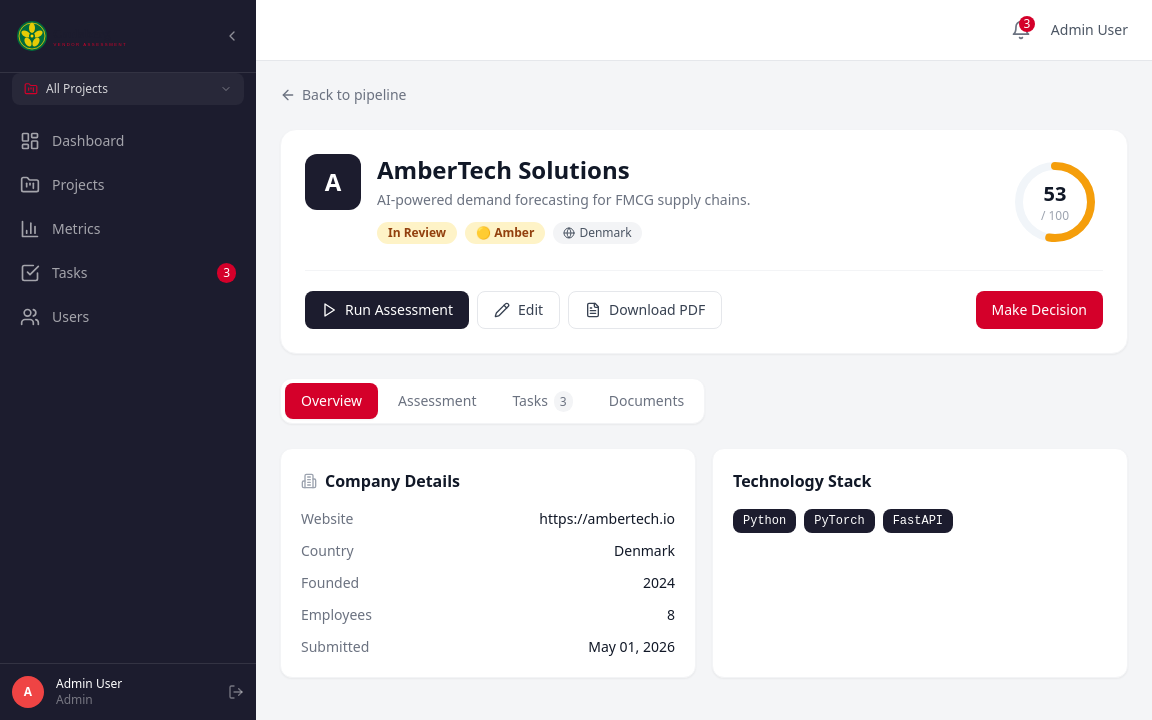
Test: VendorDetailPage › switches to Tasks tab and shows tasks
Expected: the heading "AmberTech Solutions" is shown, x1=377 y1=153 x2=630 y2=186
Click the button "Tasks3": (543, 401) x1=496 y1=383 x2=589 y2=419
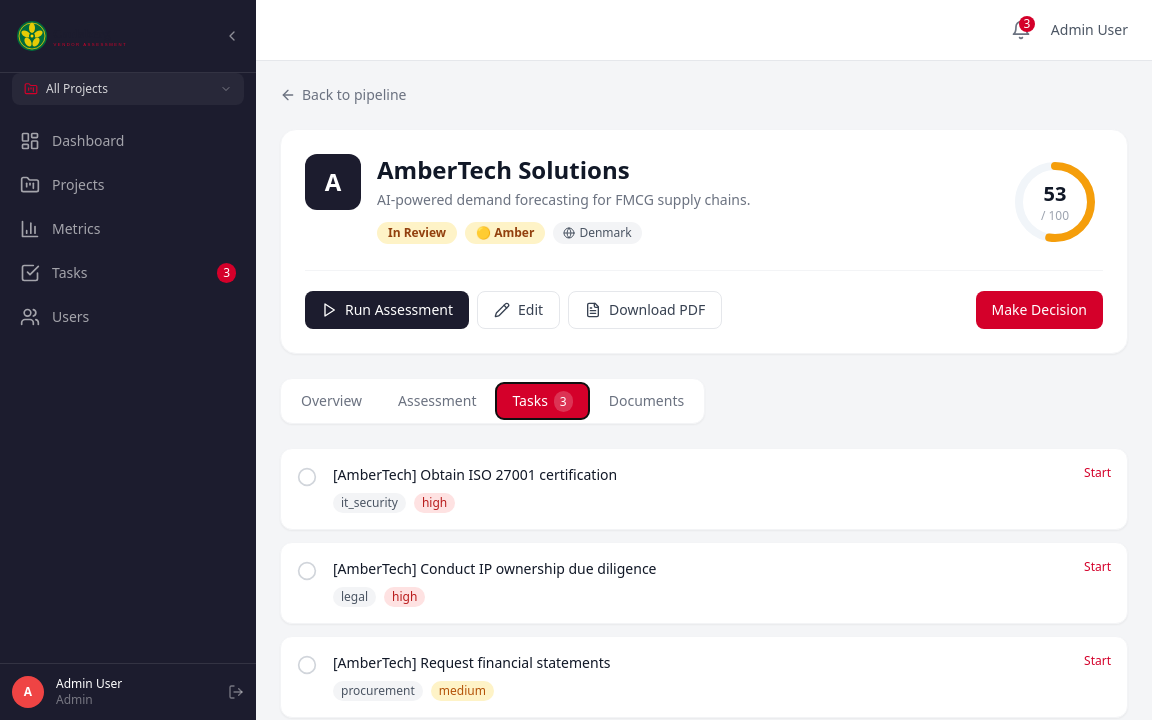
Expected: the text "[AmberTech] Obtain ISO 27001 certification" is shown, x1=333 y1=465 x2=617 y2=484
Expected: the text "[AmberTech] Conduct IP ownership due diligence" is shown, x1=333 y1=559 x2=656 y2=578
